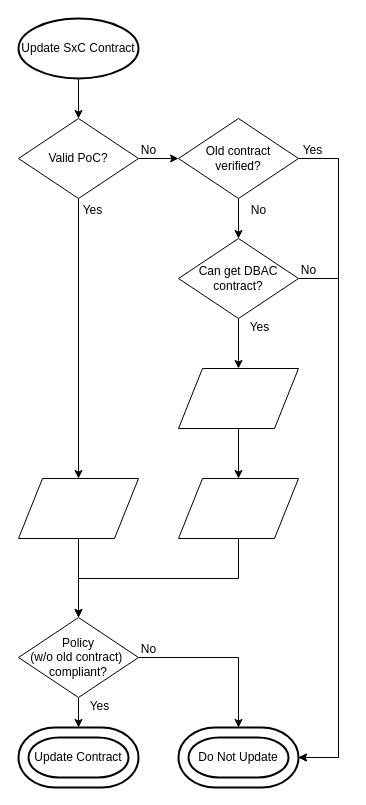
The diagram is 366 pixels wide and 805 high, and some of its shapes have lost their labels. Here are the shapes that lost their labels. From the top down, the centre of each, then its label:
At (x=238, y=398): "Extract Contract from DBAC info".
At (x=78, y=508): "Mark Verified".
At (x=238, y=508): "Mark Extracted".
